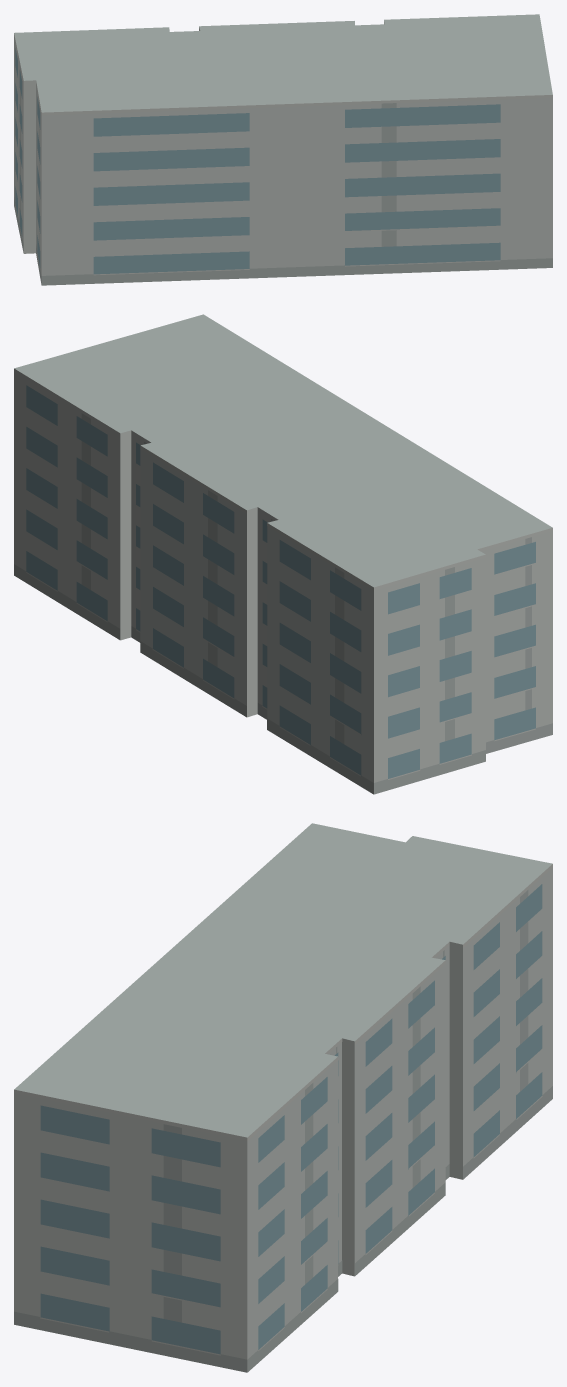
Rendered from survey-upis-32840941.glb.
The picture shows the model from 3 angles, top to bottom: view 1: azimuth 30°, elevation 25°; view 2: azimuth 150°, elevation 25°; view 3: azimuth 270°, elevation 25°; orthographic projection. The views are drawn at different scales.
Visible parts, largest first — view 1: survey-upis-32840941.tmp; view 2: survey-upis-32840941.tmp; view 3: survey-upis-32840941.tmp.
Boxes of the visible parts, x1,y1,x2,y2 form: survey-upis-32840941.tmp: (14,14,552,285); survey-upis-32840941.tmp: (14,314,552,794); survey-upis-32840941.tmp: (14,823,552,1372).
Bounding box in the file's own units: 43.73 × 15.25 × 31.68.
